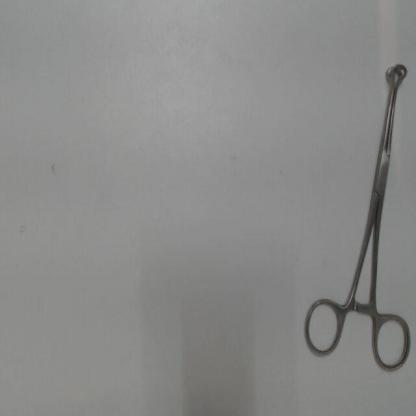Babcock Tissue Forceps: (300, 56, 412, 377)
